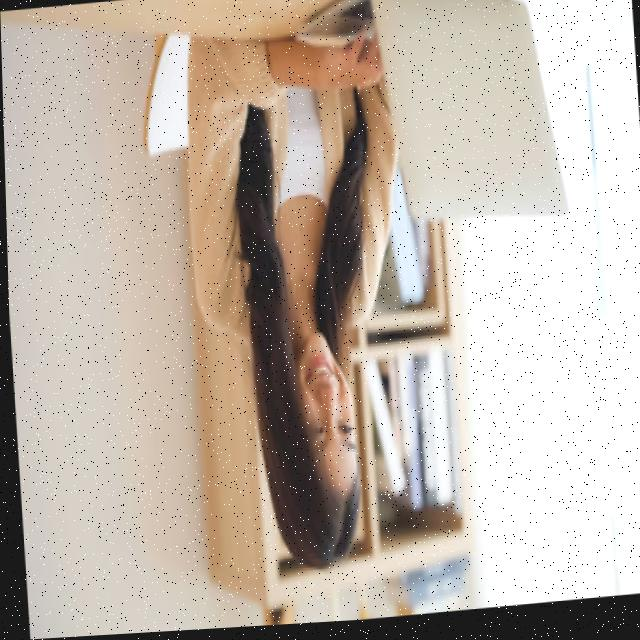notebook-person: (168, 0, 591, 601)
